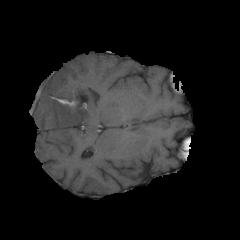glioma: (30, 74, 96, 131)
